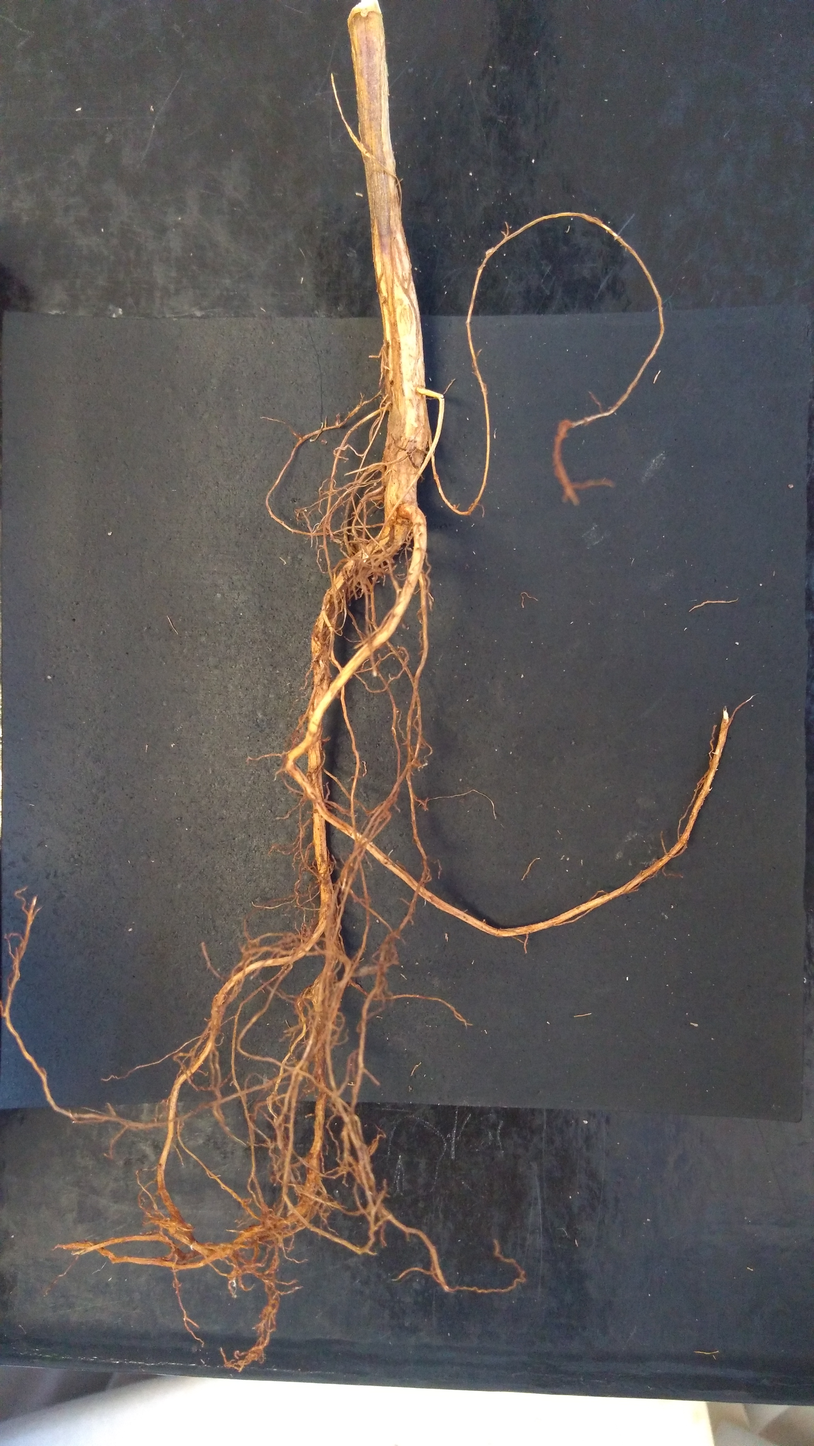nodule: (311, 971, 338, 1013), (374, 482, 377, 486)
